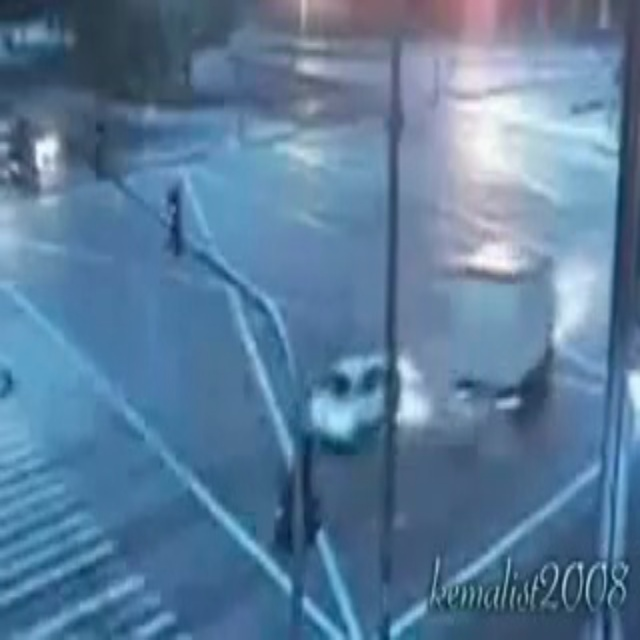acc: (300, 228, 547, 484)
